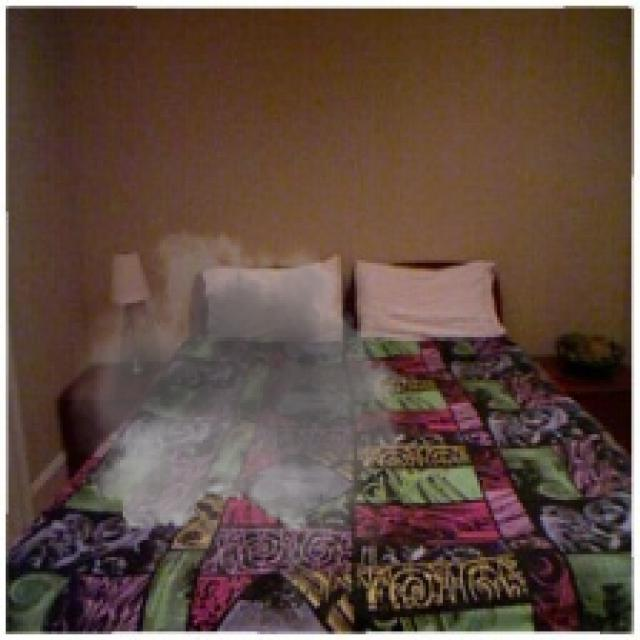smoke: (69, 212, 420, 612)
